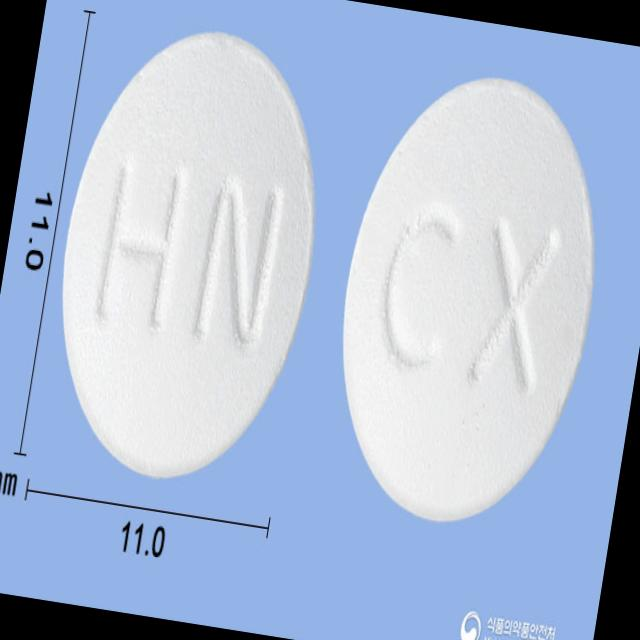Cipron: (308, 54, 630, 549), (28, 10, 349, 501)
